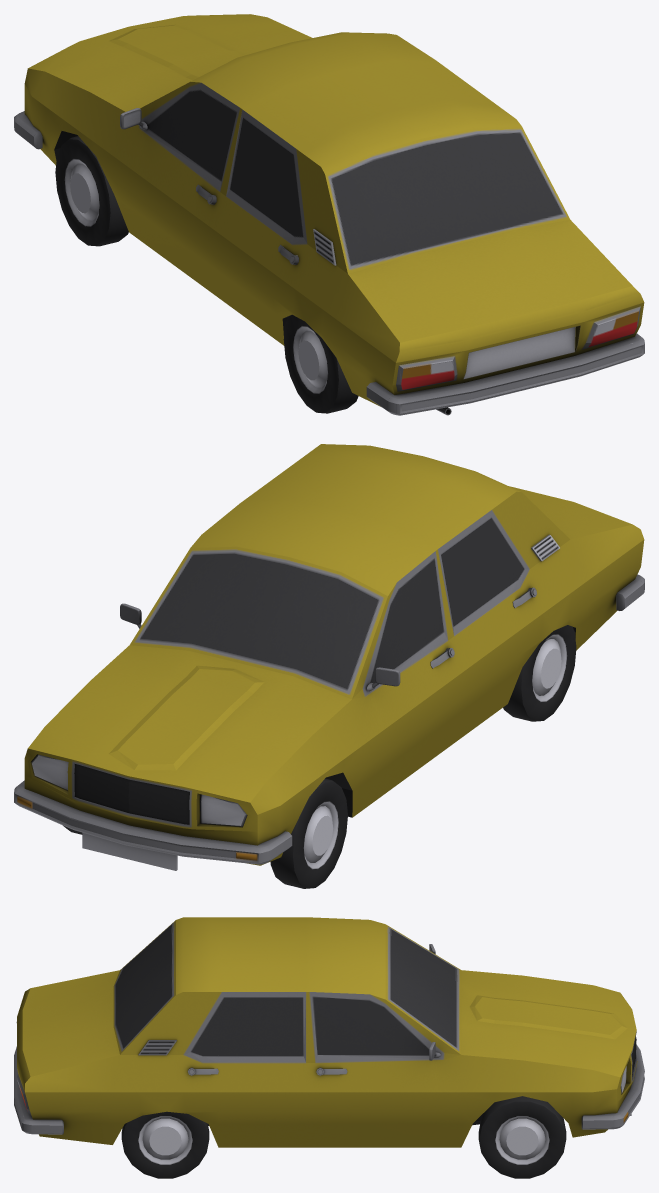
The model's file is Car01.FBX.
The picture shows the model from 3 angles, top to bottom: view 1: azimuth 30°, elevation 25°; view 2: azimuth 150°, elevation 25°; view 3: azimuth 270°, elevation 25°; orthographic projection. The views are drawn at different scales.
Visible parts, largest first — view 1: Body, FLWheel, RLWheel; view 2: Body, FLWheel, RLWheel; view 3: Body, FRWheel, RRWheel.
Part boxes in pixels (left/top/right/bottom): Body: left=14, top=14, right=644, bottom=415; FLWheel: left=55, top=136, right=128, bottom=246; RLWheel: left=283, top=315, right=358, bottom=413; Body: left=14, top=444, right=644, bottom=870; FLWheel: left=270, top=778, right=347, bottom=888; RLWheel: left=503, top=625, right=576, bottom=721; Body: left=14, top=917, right=644, bottom=1147; FRWheel: left=478, top=1096, right=566, bottom=1178; RRWheel: left=121, top=1111, right=209, bottom=1178.
Size of the model in its own units: 1.73 by 1.45 by 4.33.
2 materials, 2 textured.
